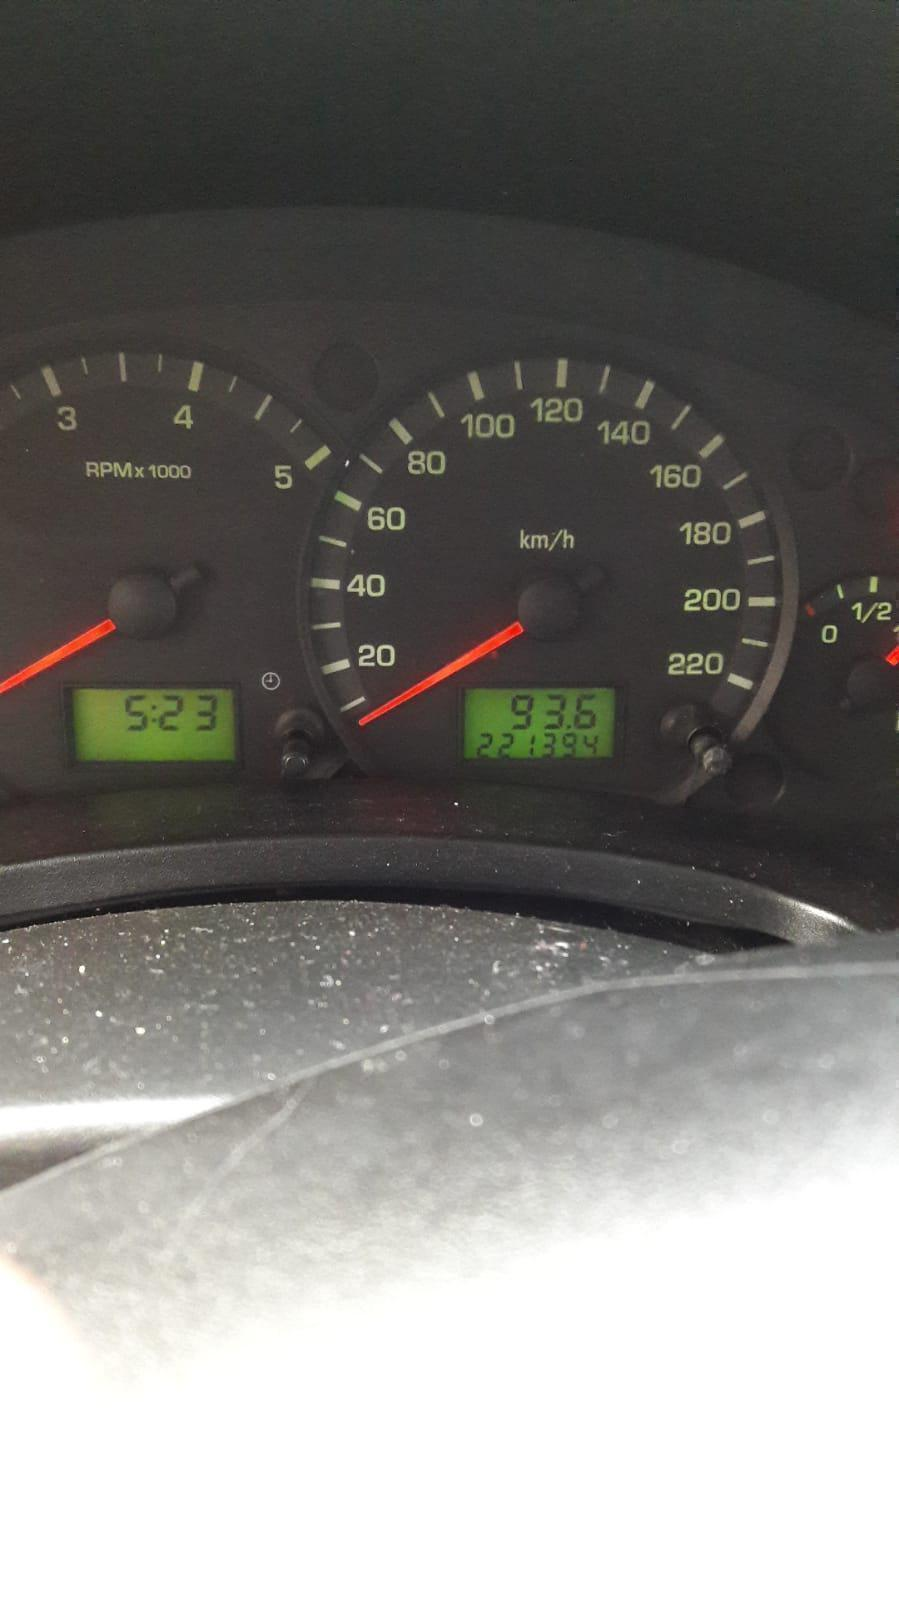,: (566, 723, 571, 729)
1: (529, 734, 535, 757)
2: (497, 733, 513, 759), (476, 733, 492, 758)
3: (543, 694, 566, 729), (542, 733, 555, 757)
4: (583, 734, 597, 756)
6: (574, 694, 596, 729)
9: (510, 694, 533, 730), (561, 733, 577, 758)
odometer: (461, 685, 618, 762)
